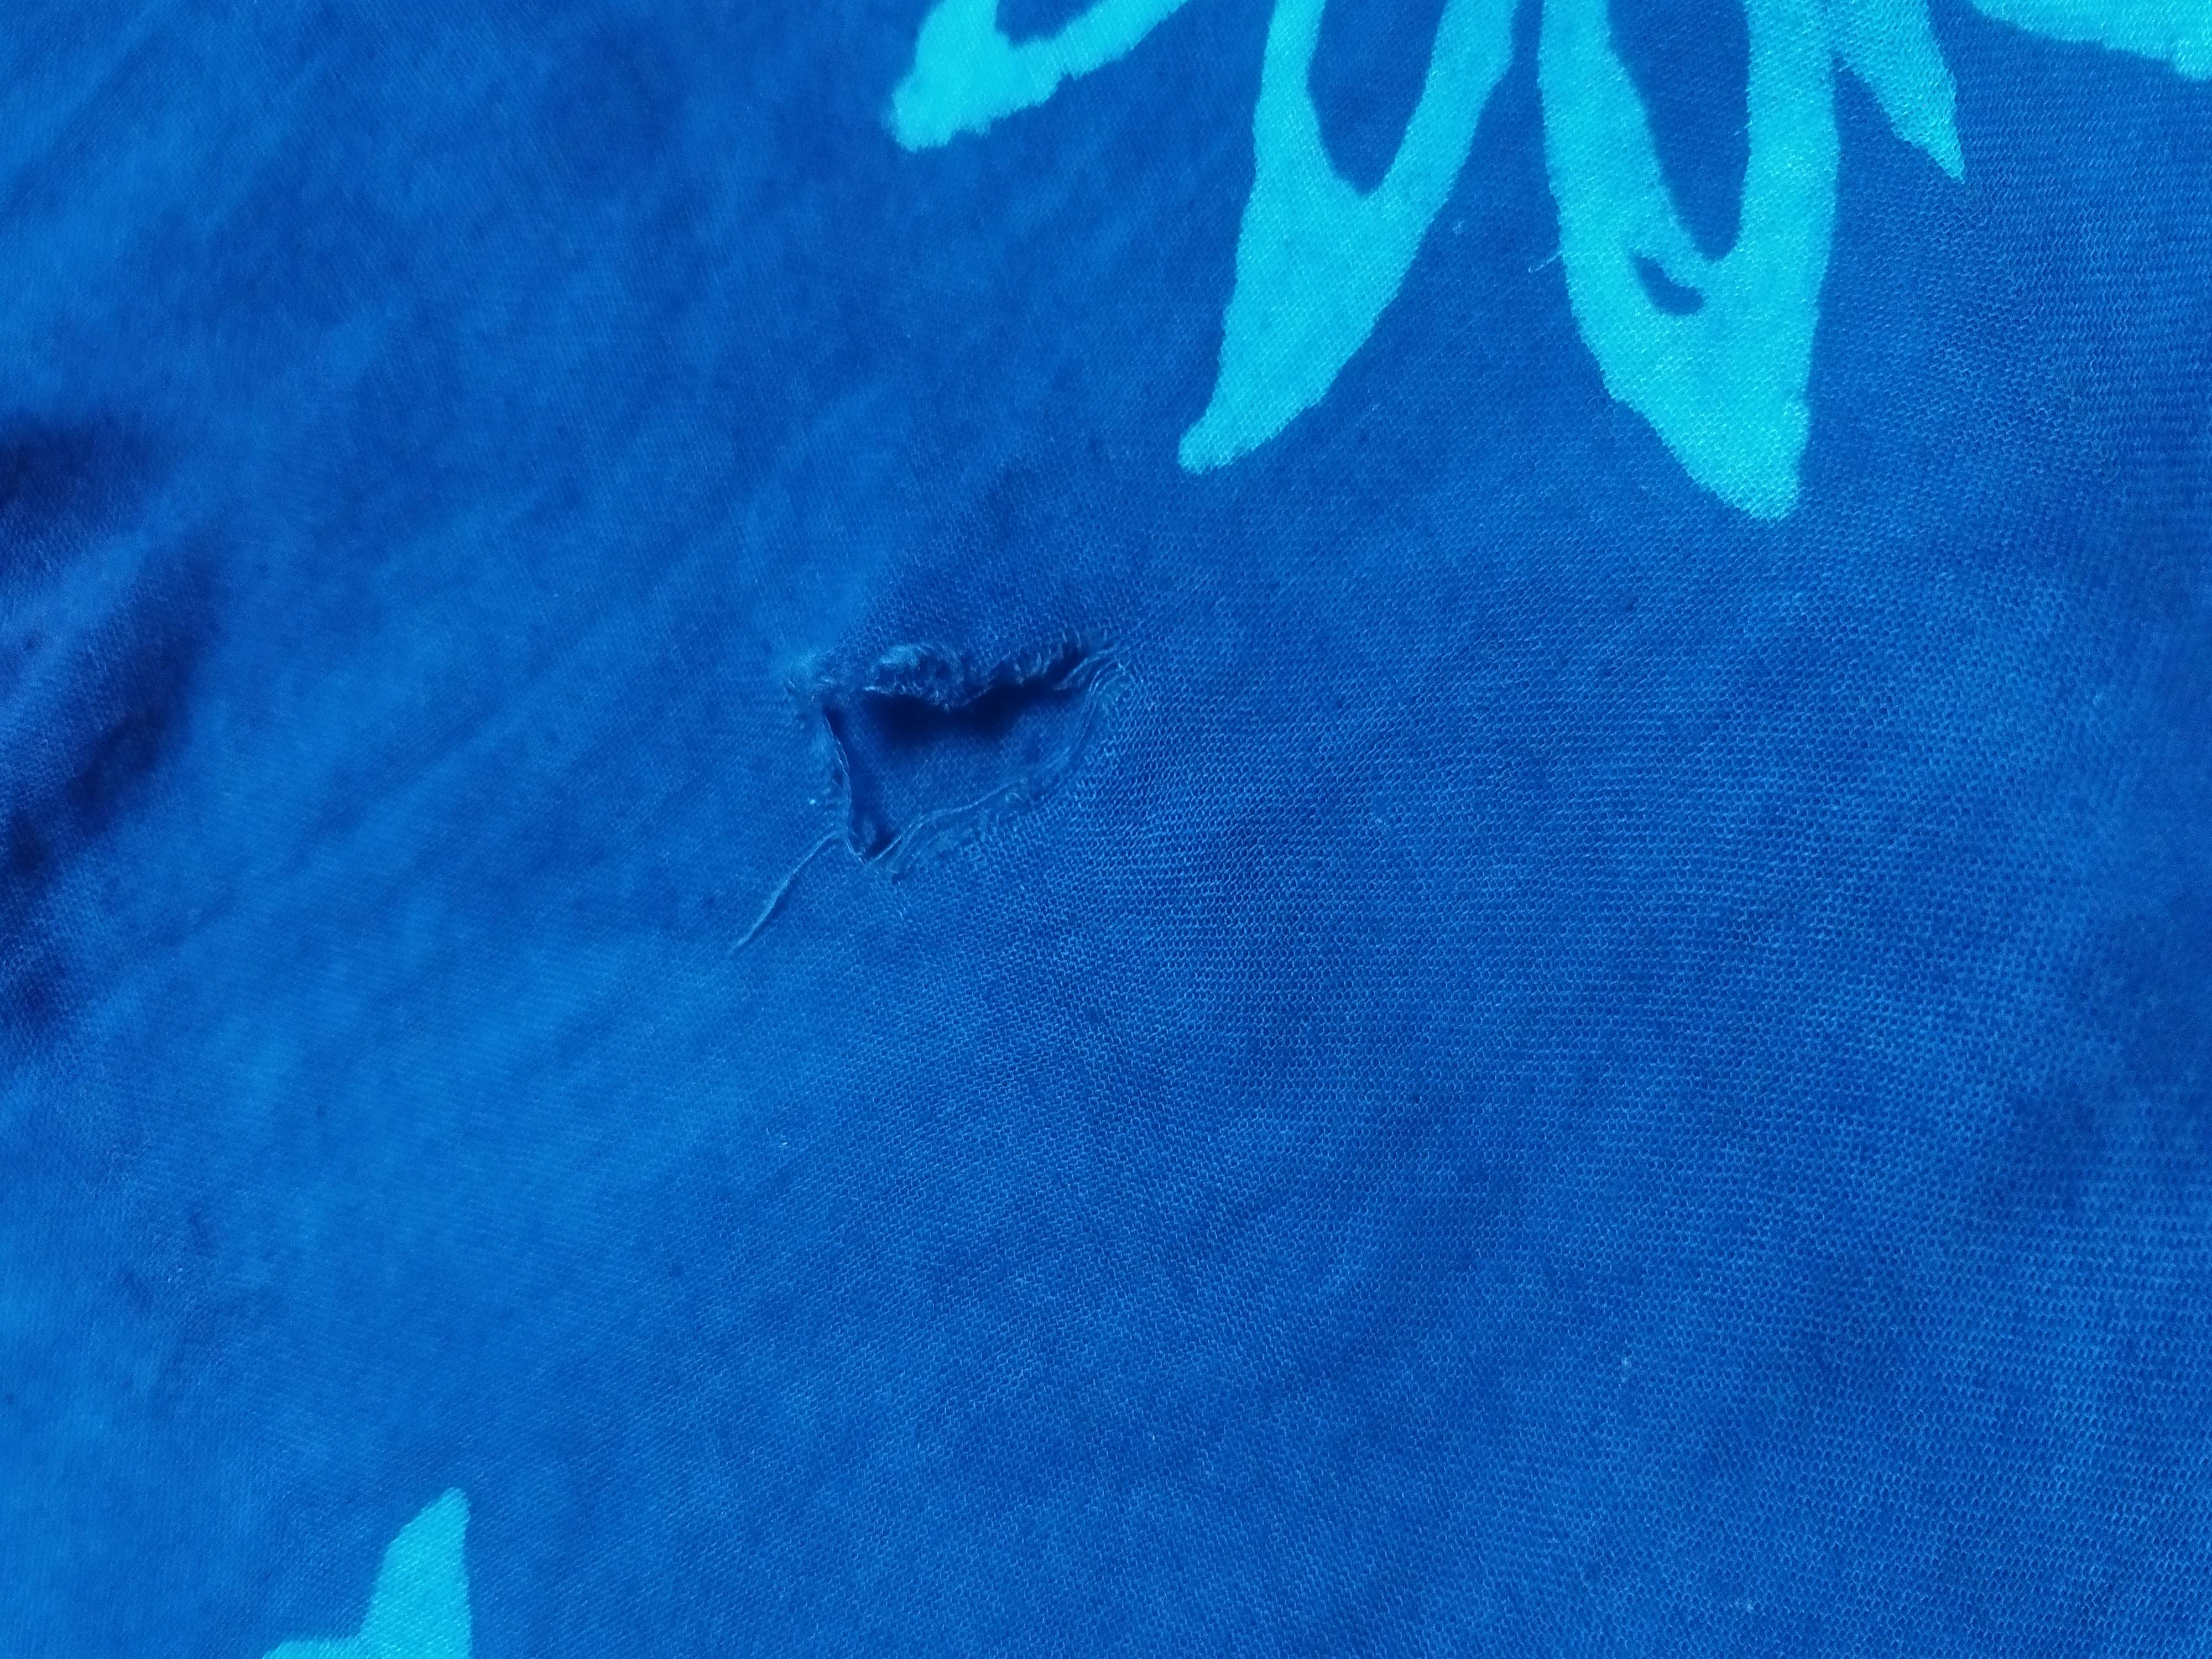hole: (772, 601, 1137, 885)
